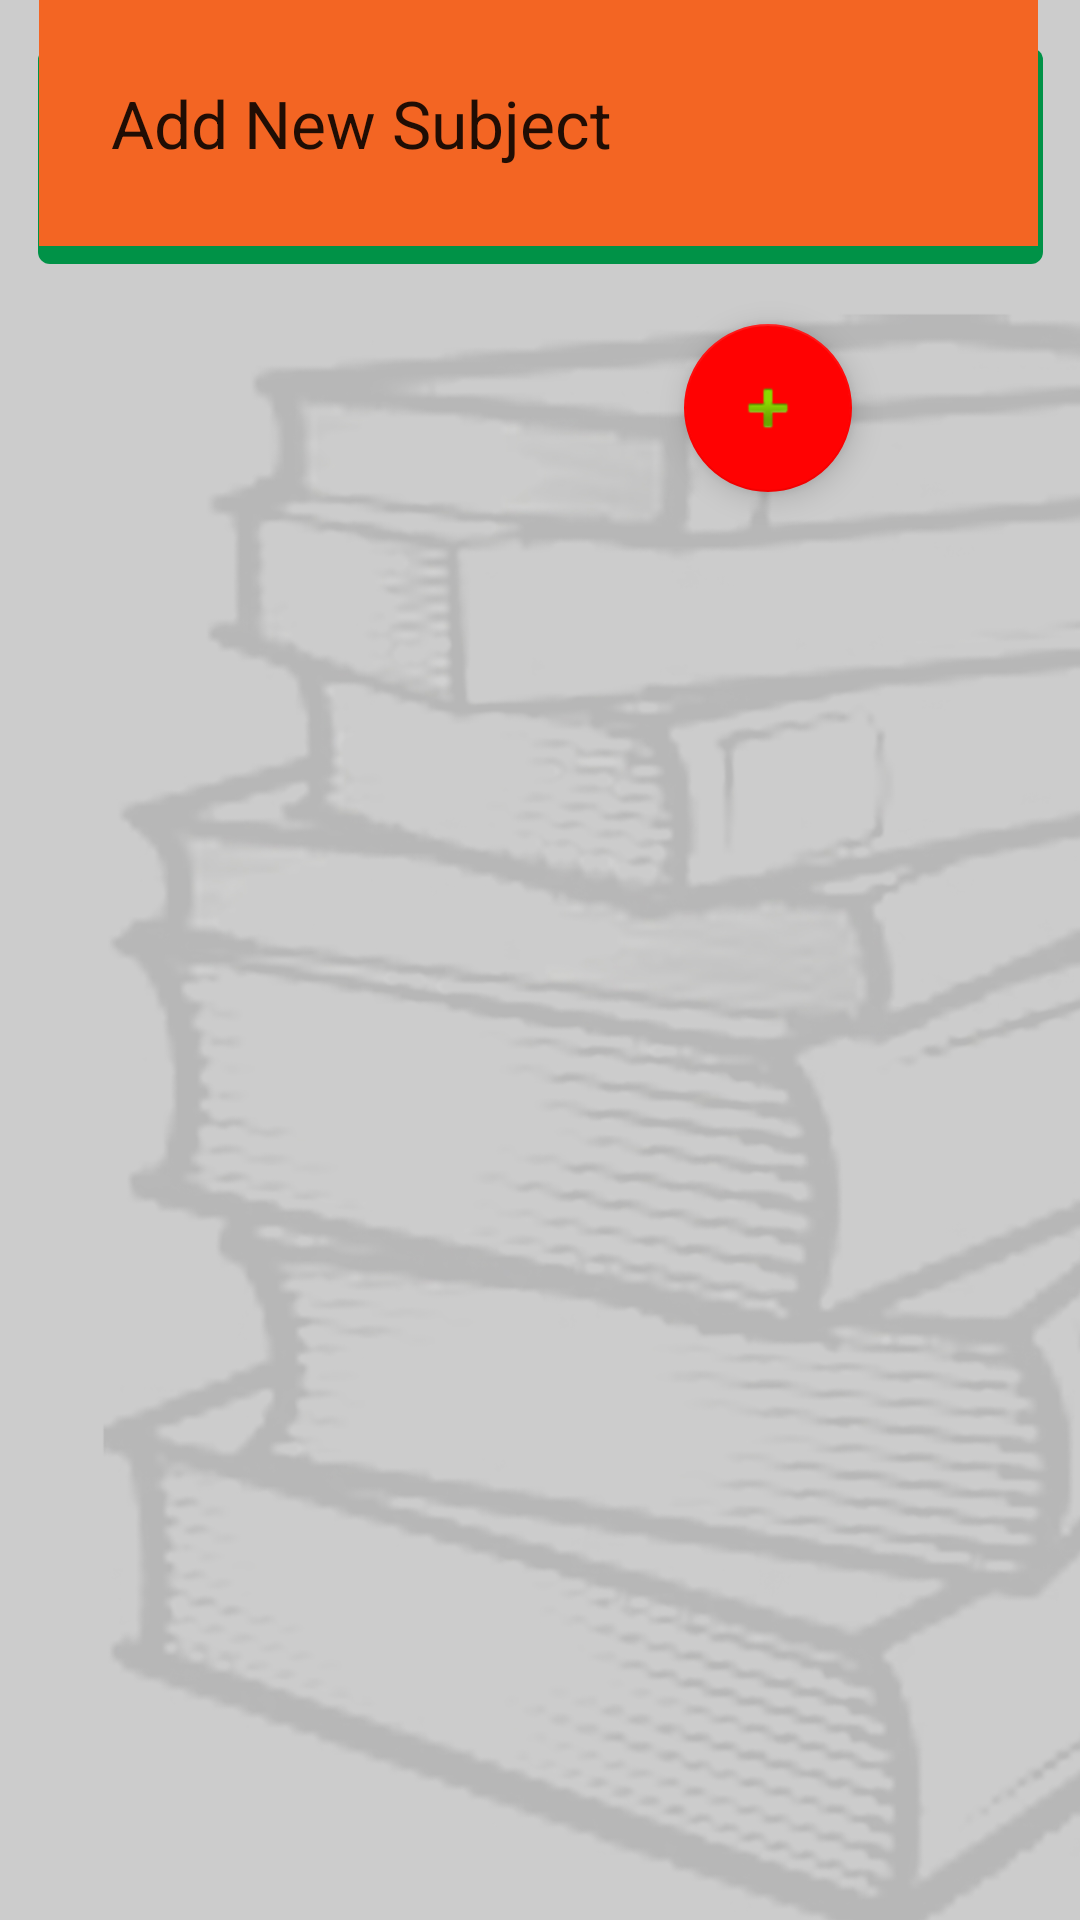

Icons on this 1080 x 1920 Android screen, each with its box as [x1=x1, y1=y1, x2=x2, y2=y2]:
add: [x1=684, y1=324, x2=852, y2=492]
